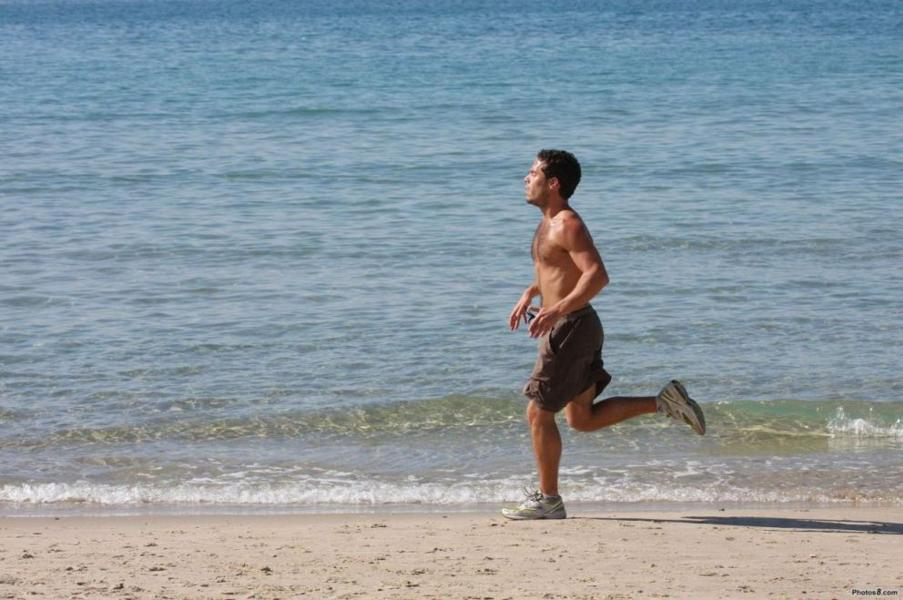person: (511, 145, 708, 521)
